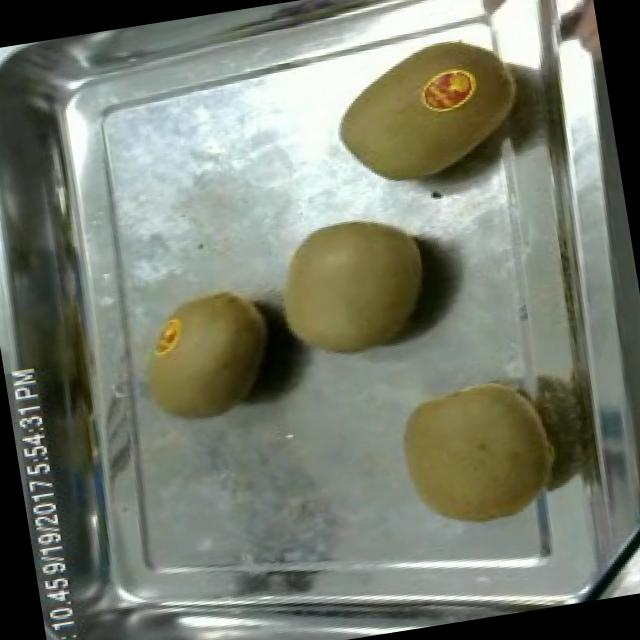Fruit: (322, 23, 528, 198), (380, 361, 574, 544), (260, 200, 444, 372), (126, 272, 290, 434)
